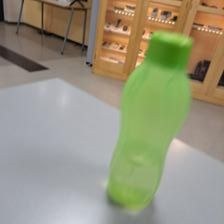bottle: (100, 31, 198, 214)
